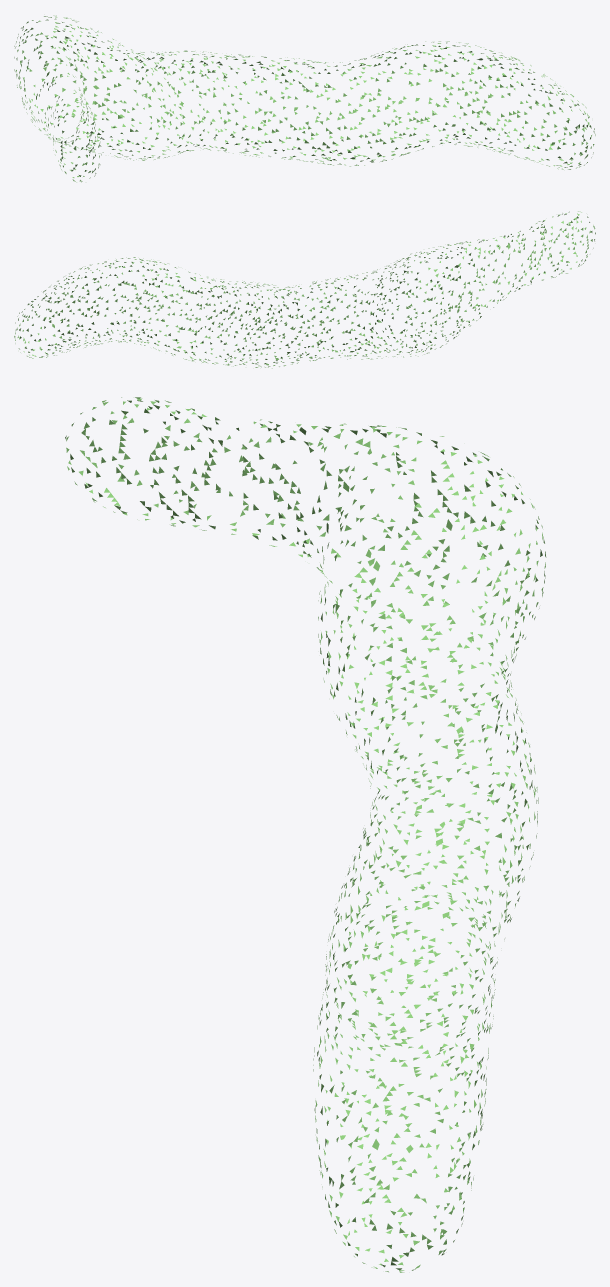
Rendered from morph_015.glb.
3 renders of one model, top to bottom at view 1: azimuth 30°, elevation 25°; view 2: azimuth 150°, elevation 25°; view 3: azimuth 270°, elevation 25°, orthographic. The views are drawn at different scales.
Size of the model in its own units: 118 by 48.32 by 49.48.
